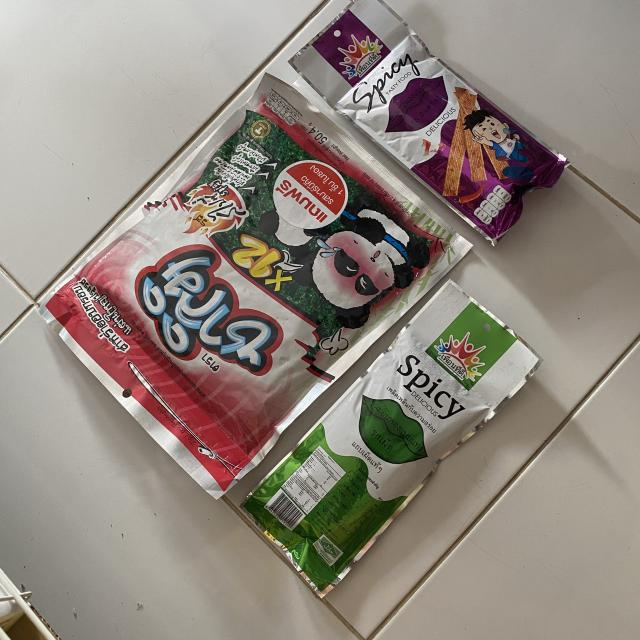plastik: (40, 74, 470, 498), (241, 281, 542, 598), (291, 0, 569, 242)
